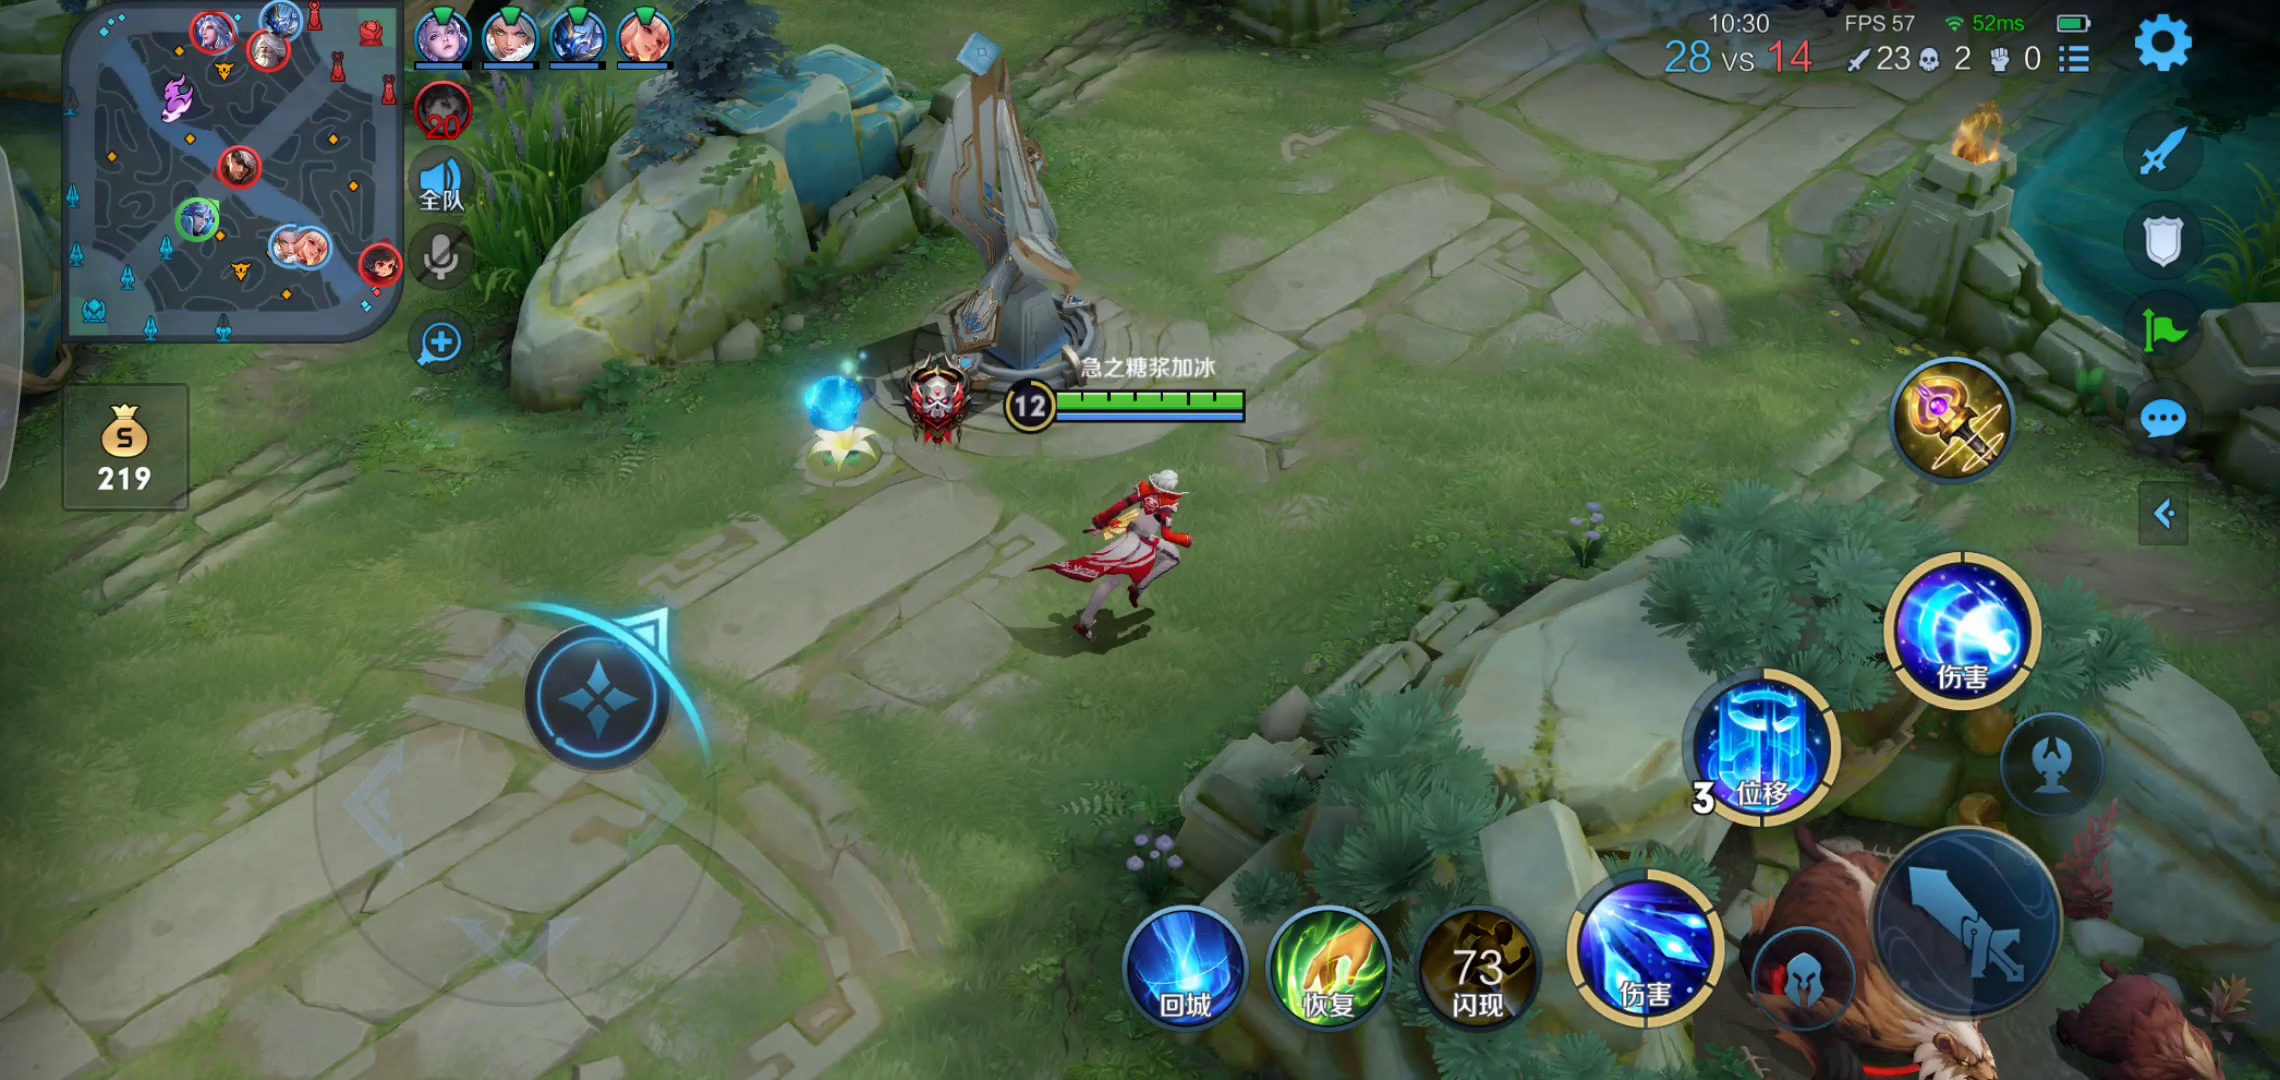grass: (445, 93, 614, 314), (2201, 177, 2280, 302)
hero: (1032, 464, 1248, 651)
tower: (881, 36, 1125, 390)
wild_monster: (1762, 850, 2223, 1080)
